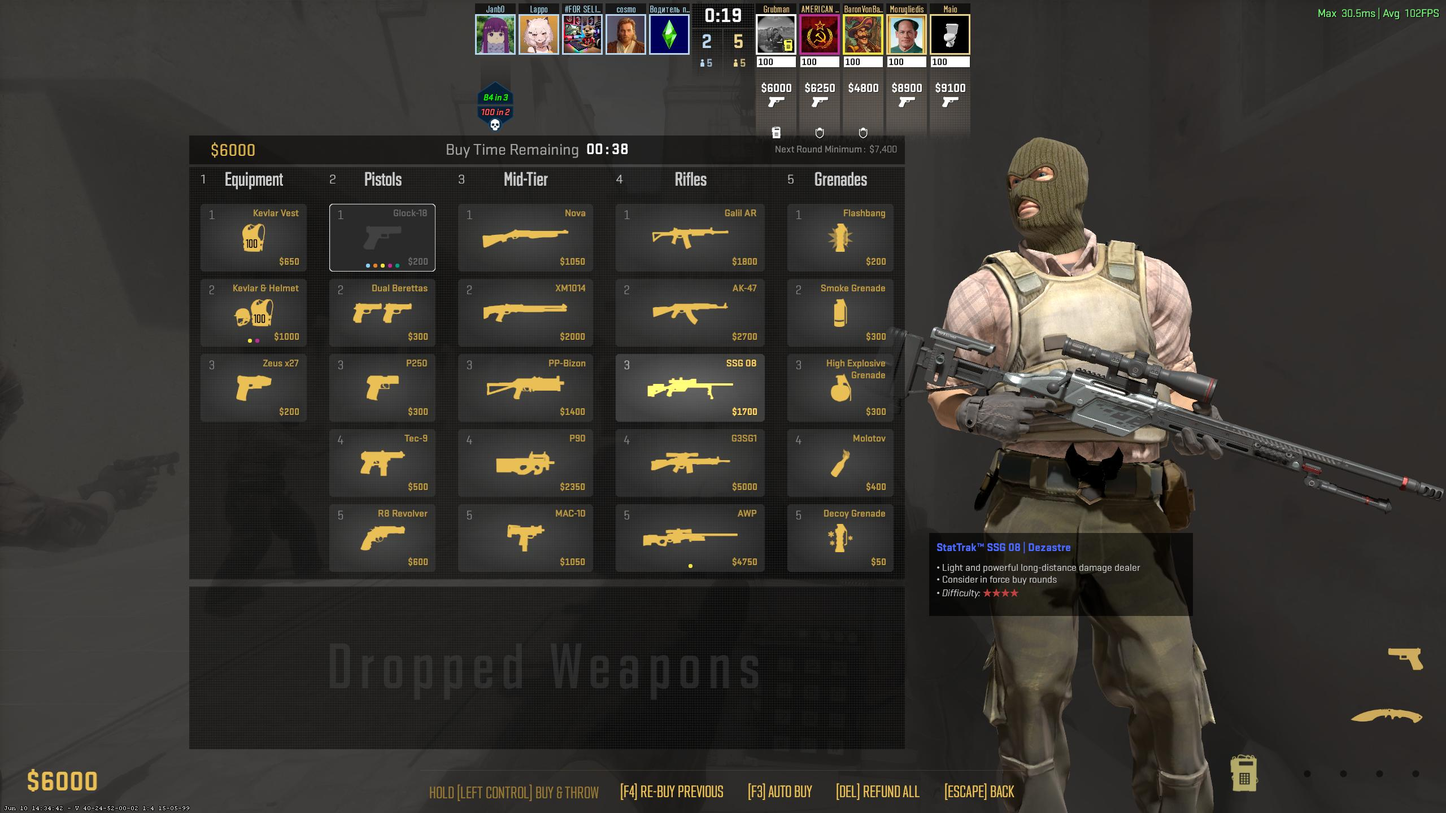Terrorist: (925, 128, 1246, 793)
